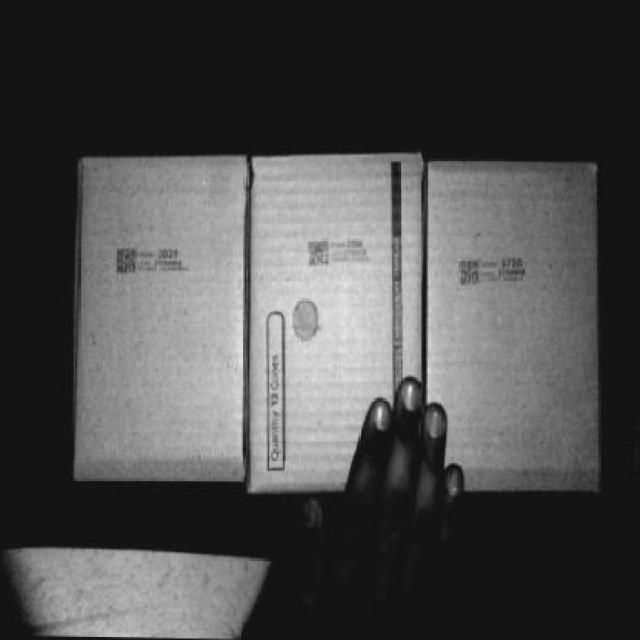cardboxes: (249, 155, 434, 491), (424, 161, 608, 494), (77, 156, 251, 476)
